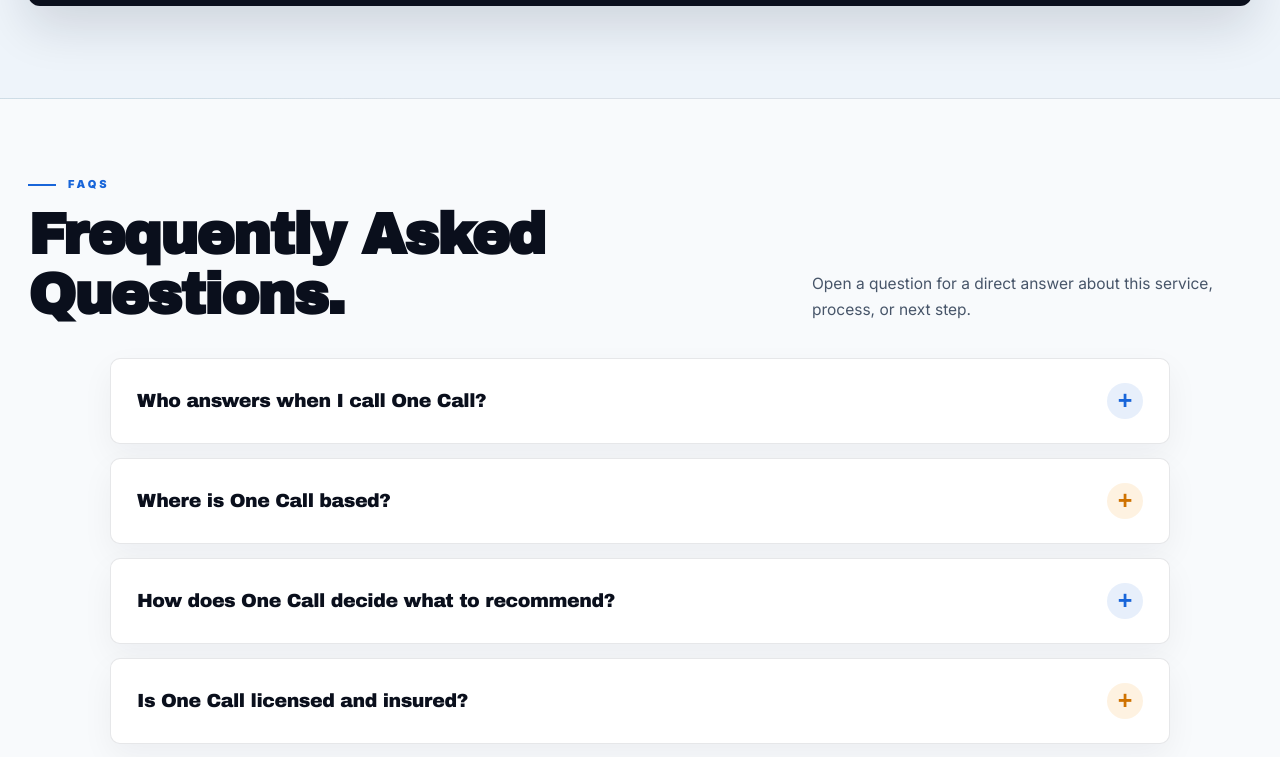
Test: page answer sections › renders /about answers visibly and mirrors them in structured data
(page scrolled)
Click the button "Who answers when I call One Call? +".
click(312, 400)  # box [111,359,1169,443]
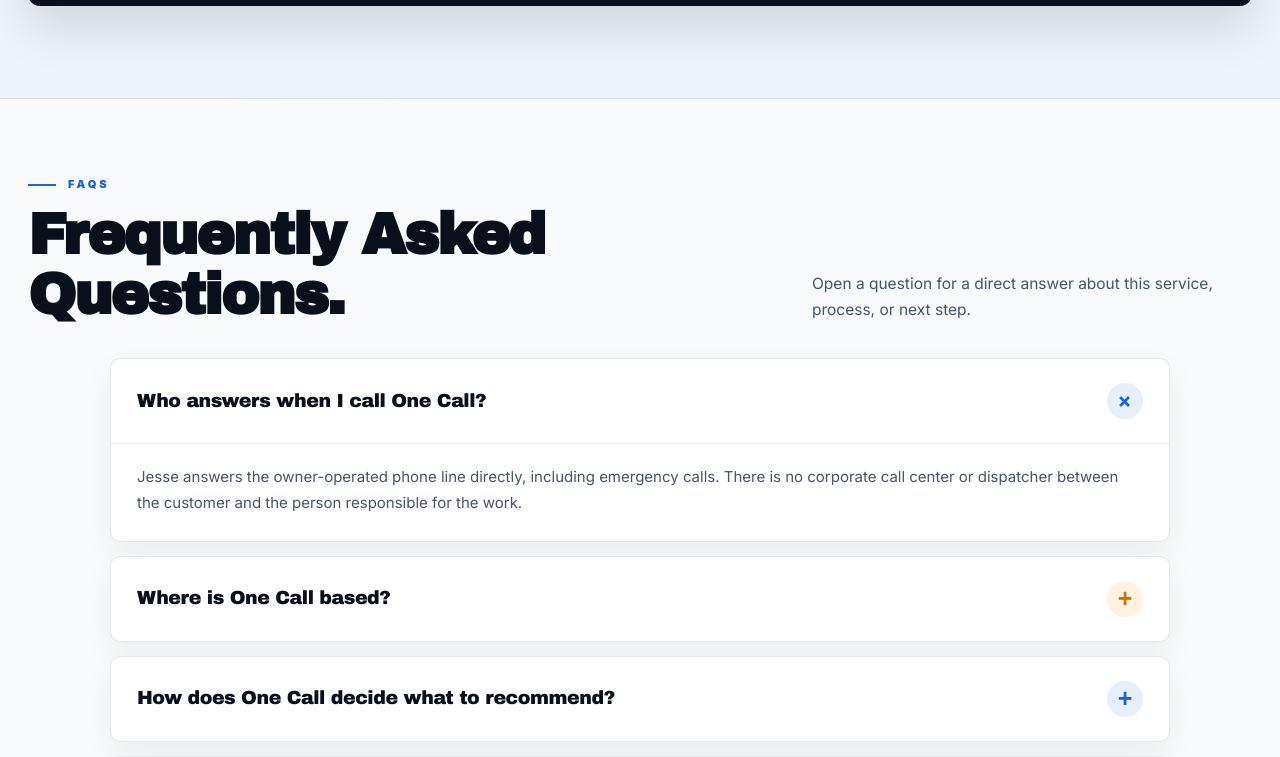
Expected: the button "Who answers when I call One Call? +" is expanded, [111,359,1169,443]
